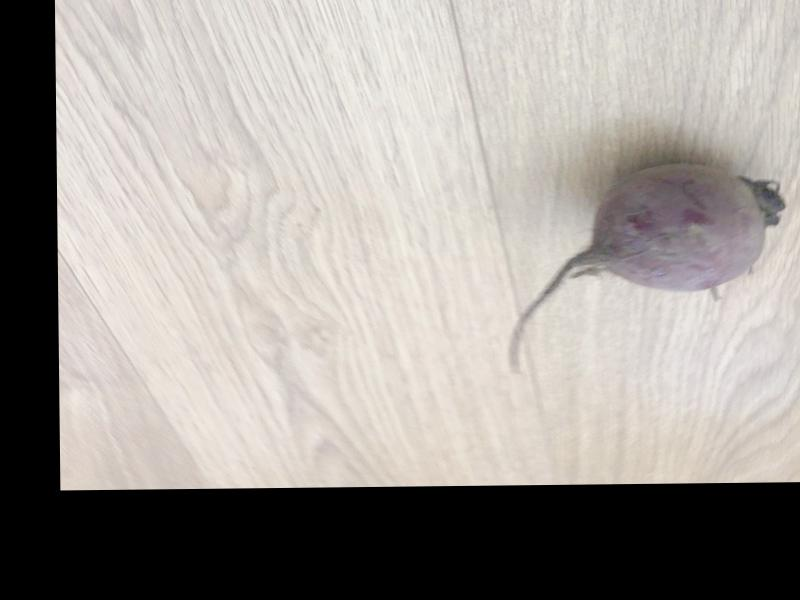Beet: (501, 161, 782, 373)
